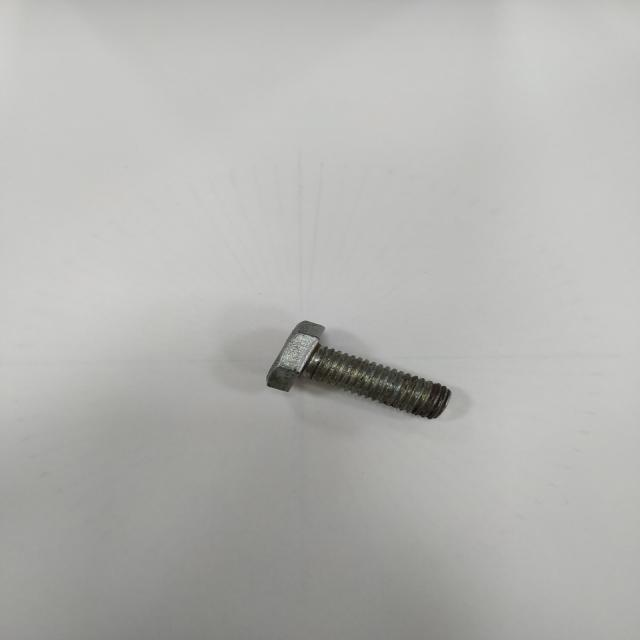Bolt: (267, 321, 452, 419)
